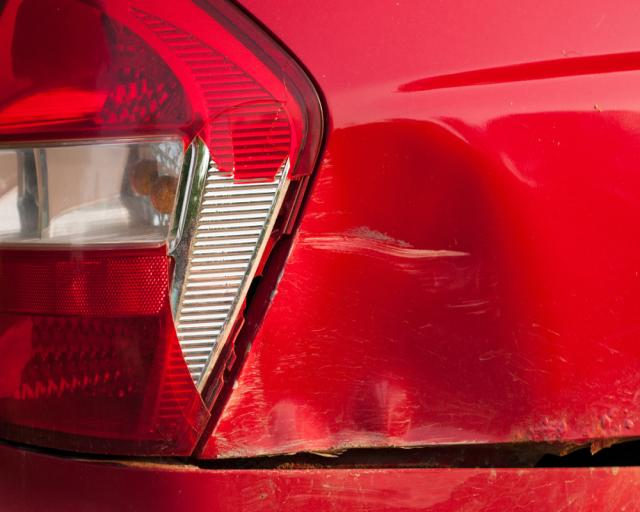dent: (201, 115, 534, 458)
